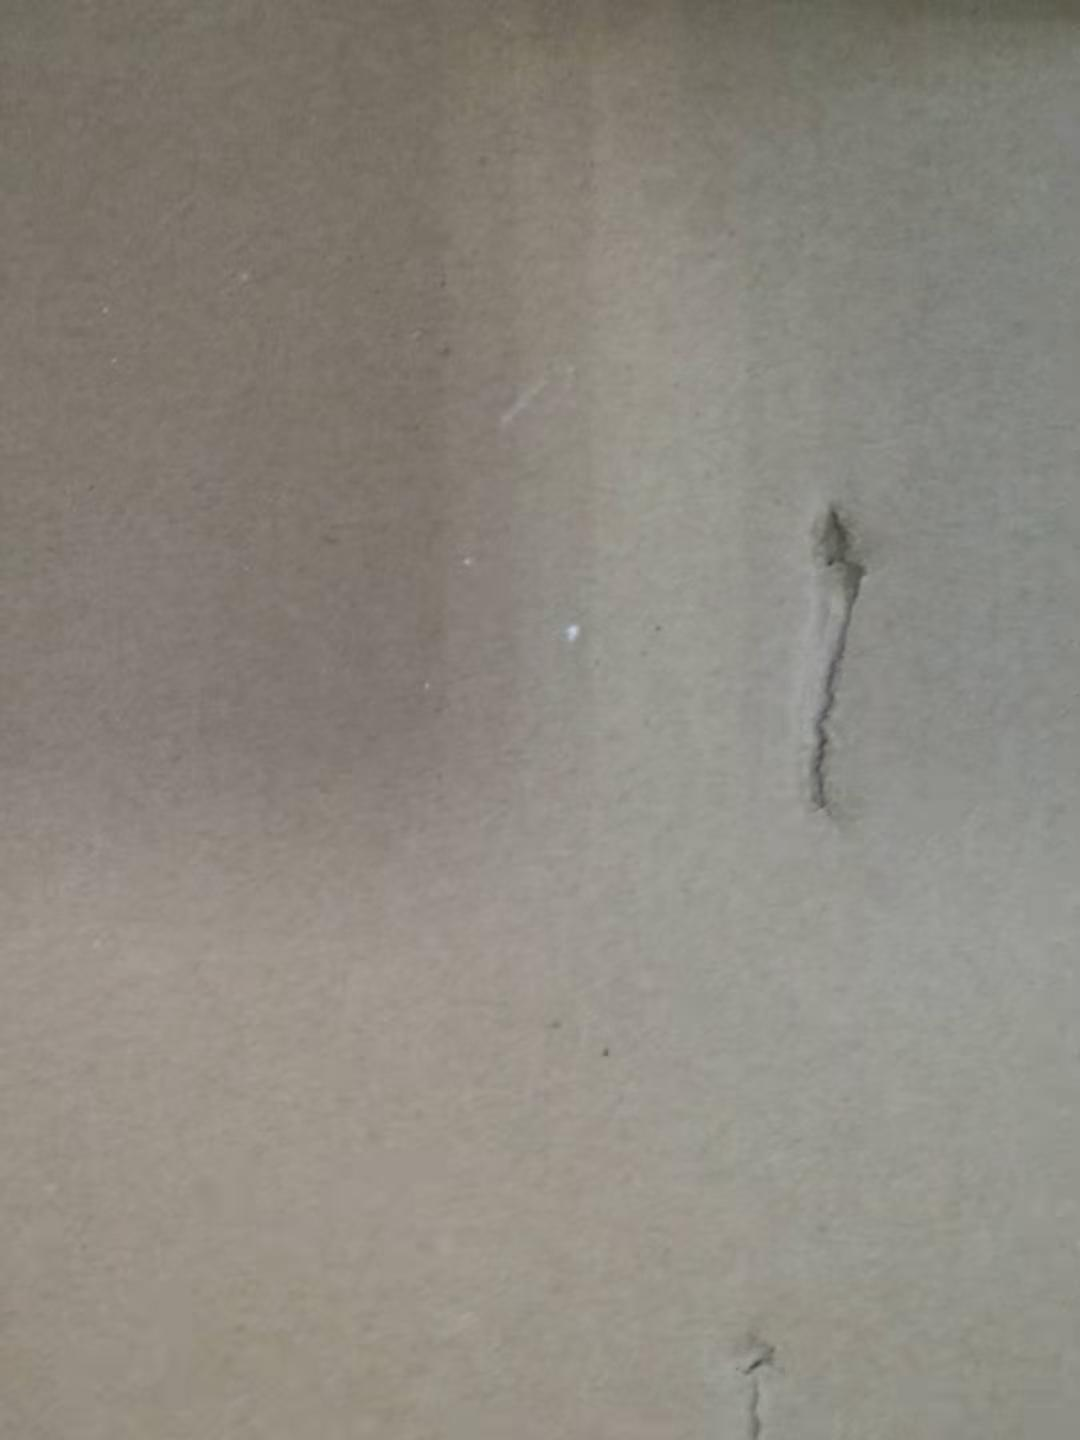defect: (740, 459, 914, 850), (694, 1304, 805, 1440)
